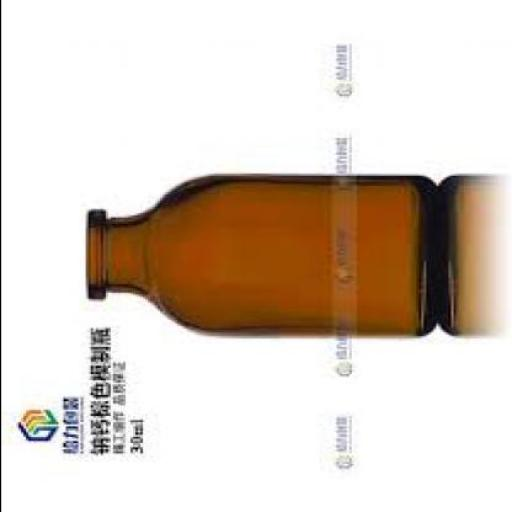glass: (82, 180, 442, 340)
